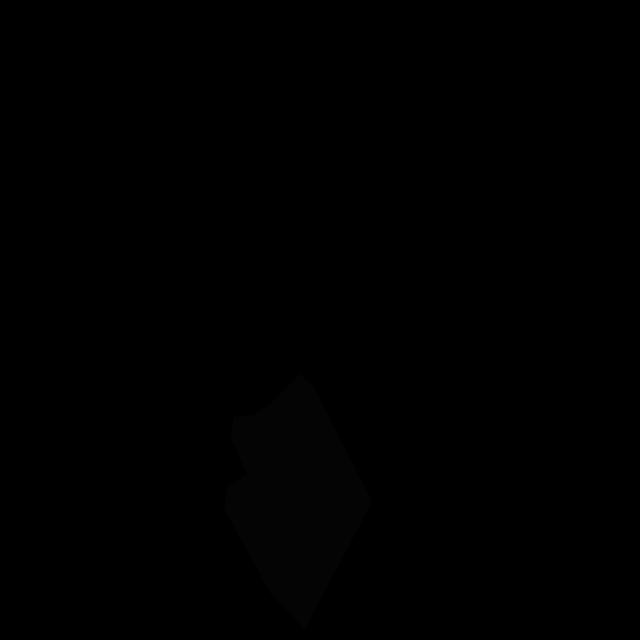soft_plastic: (224, 374, 372, 629)
